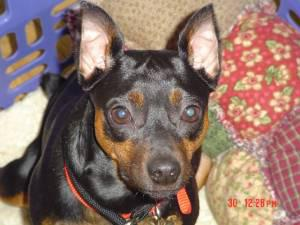dog-miniature_pinscher: (75, 0, 220, 197)
